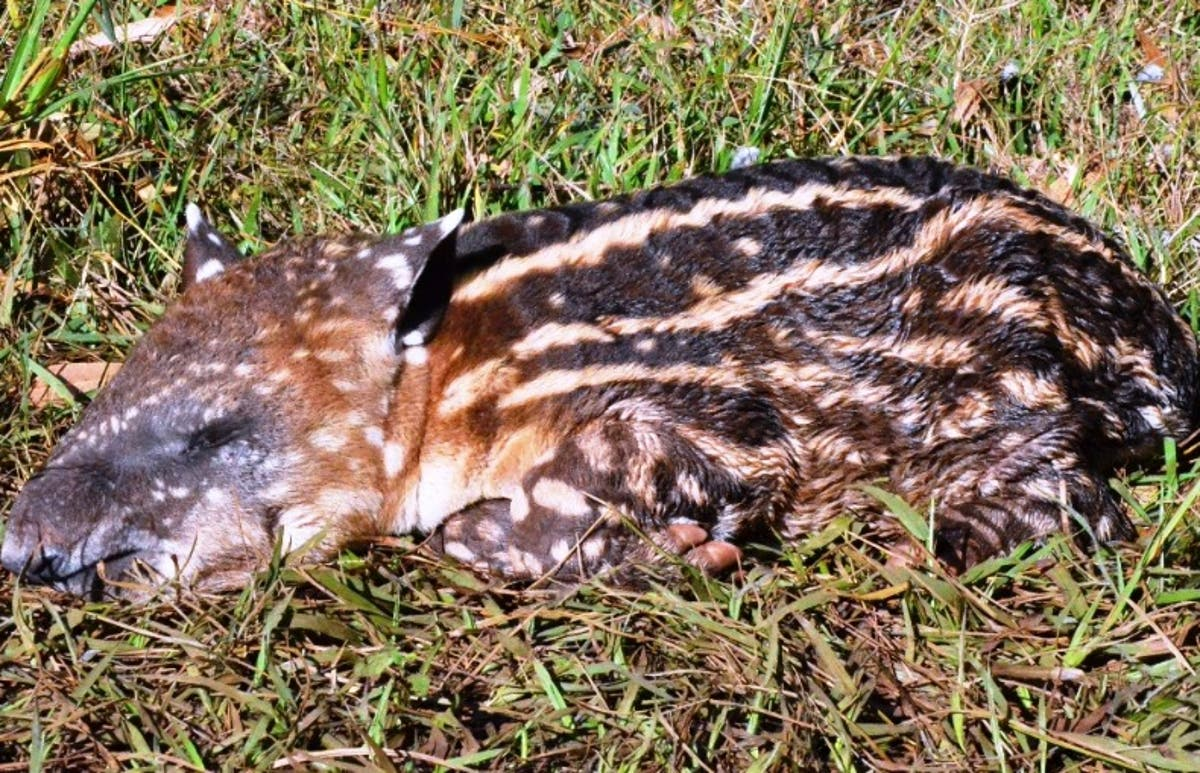Anta: (20, 145, 1185, 598)
